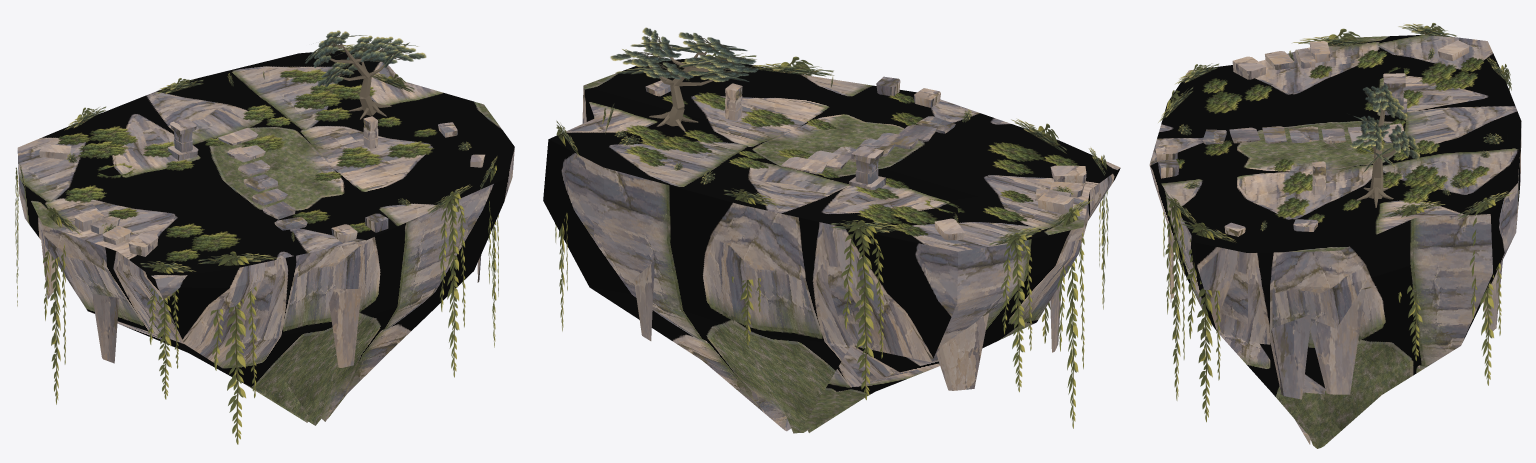
The model's file is slab.glb.
The picture shows the model from 3 angles, left to right: view 1: azimuth 30°, elevation 25°; view 2: azimuth 150°, elevation 25°; view 3: azimuth 270°, elevation 25°; orthographic projection. The views are drawn at different scales.
Parts seen in each view (by area): view 1: slab-continuous-fractured-stone, slab-painted-pine-ivy-and-moss, slab-ruins-path-and-splintered-ledges, slab-long-hanging-vine-quads, slab-summit-soil-and-bent-trunks; view 2: slab-continuous-fractured-stone, slab-painted-pine-ivy-and-moss, slab-ruins-path-and-splintered-ledges, slab-long-hanging-vine-quads, slab-summit-soil-and-bent-trunks; view 3: slab-continuous-fractured-stone, slab-painted-pine-ivy-and-moss, slab-ruins-path-and-splintered-ledges, slab-long-hanging-vine-quads, slab-summit-soil-and-bent-trunks.
Part boxes in pixels (x1=…): slab-continuous-fractured-stone: x1=17, y1=50, x2=514, y2=425; slab-painted-pine-ivy-and-moss: x1=19, y1=30, x2=497, y2=272; slab-ruins-path-and-splintered-ledges: x1=39, y1=116, x2=485, y2=367; slab-long-hanging-vine-quads: x1=15, y1=41, x2=498, y2=444; slab-summit-soil-and-bent-trunks: x1=330, y1=43, x2=391, y2=119; slab-continuous-fractured-stone: x1=543, y1=57, x2=1120, y2=433; slab-painted-pine-ivy-and-moss: x1=556, y1=27, x2=1105, y2=245; slab-ruins-path-and-splintered-ledges: x1=634, y1=61, x2=1086, y2=390; slab-long-hanging-vine-quads: x1=555, y1=50, x2=1108, y2=428; slab-summit-soil-and-bent-trunks: x1=648, y1=50, x2=713, y2=131; slab-continuous-fractured-stone: x1=1149, y1=35, x2=1521, y2=448; slab-painted-pine-ivy-and-moss: x1=1158, y1=23, x2=1513, y2=242; slab-ruins-path-and-splintered-ledges: x1=1155, y1=40, x2=1502, y2=399; slab-long-hanging-vine-quads: x1=1163, y1=23, x2=1511, y2=422; slab-summit-soil-and-bent-trunks: x1=1356, y1=107, x2=1402, y2=207.
Size of the model in its own units: 34.44 by 26.91 by 23.6.
Materials: 5 (4 with a texture image).
